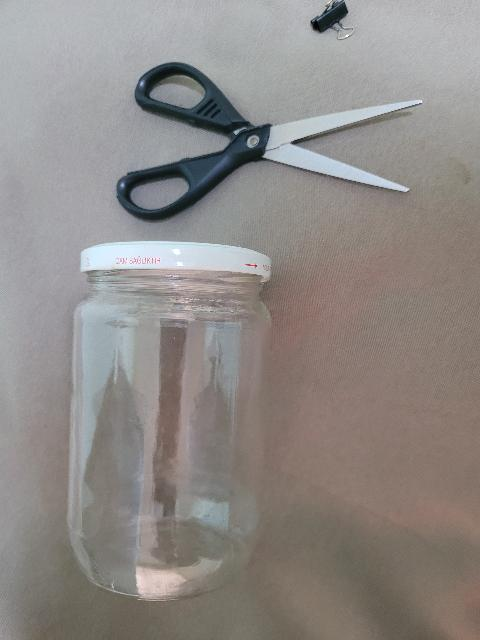Cam: (63, 275, 271, 600)
Metal: (262, 95, 435, 200), (76, 232, 282, 289), (329, 21, 355, 49)
Plastik: (119, 56, 266, 220), (306, 2, 348, 38)
